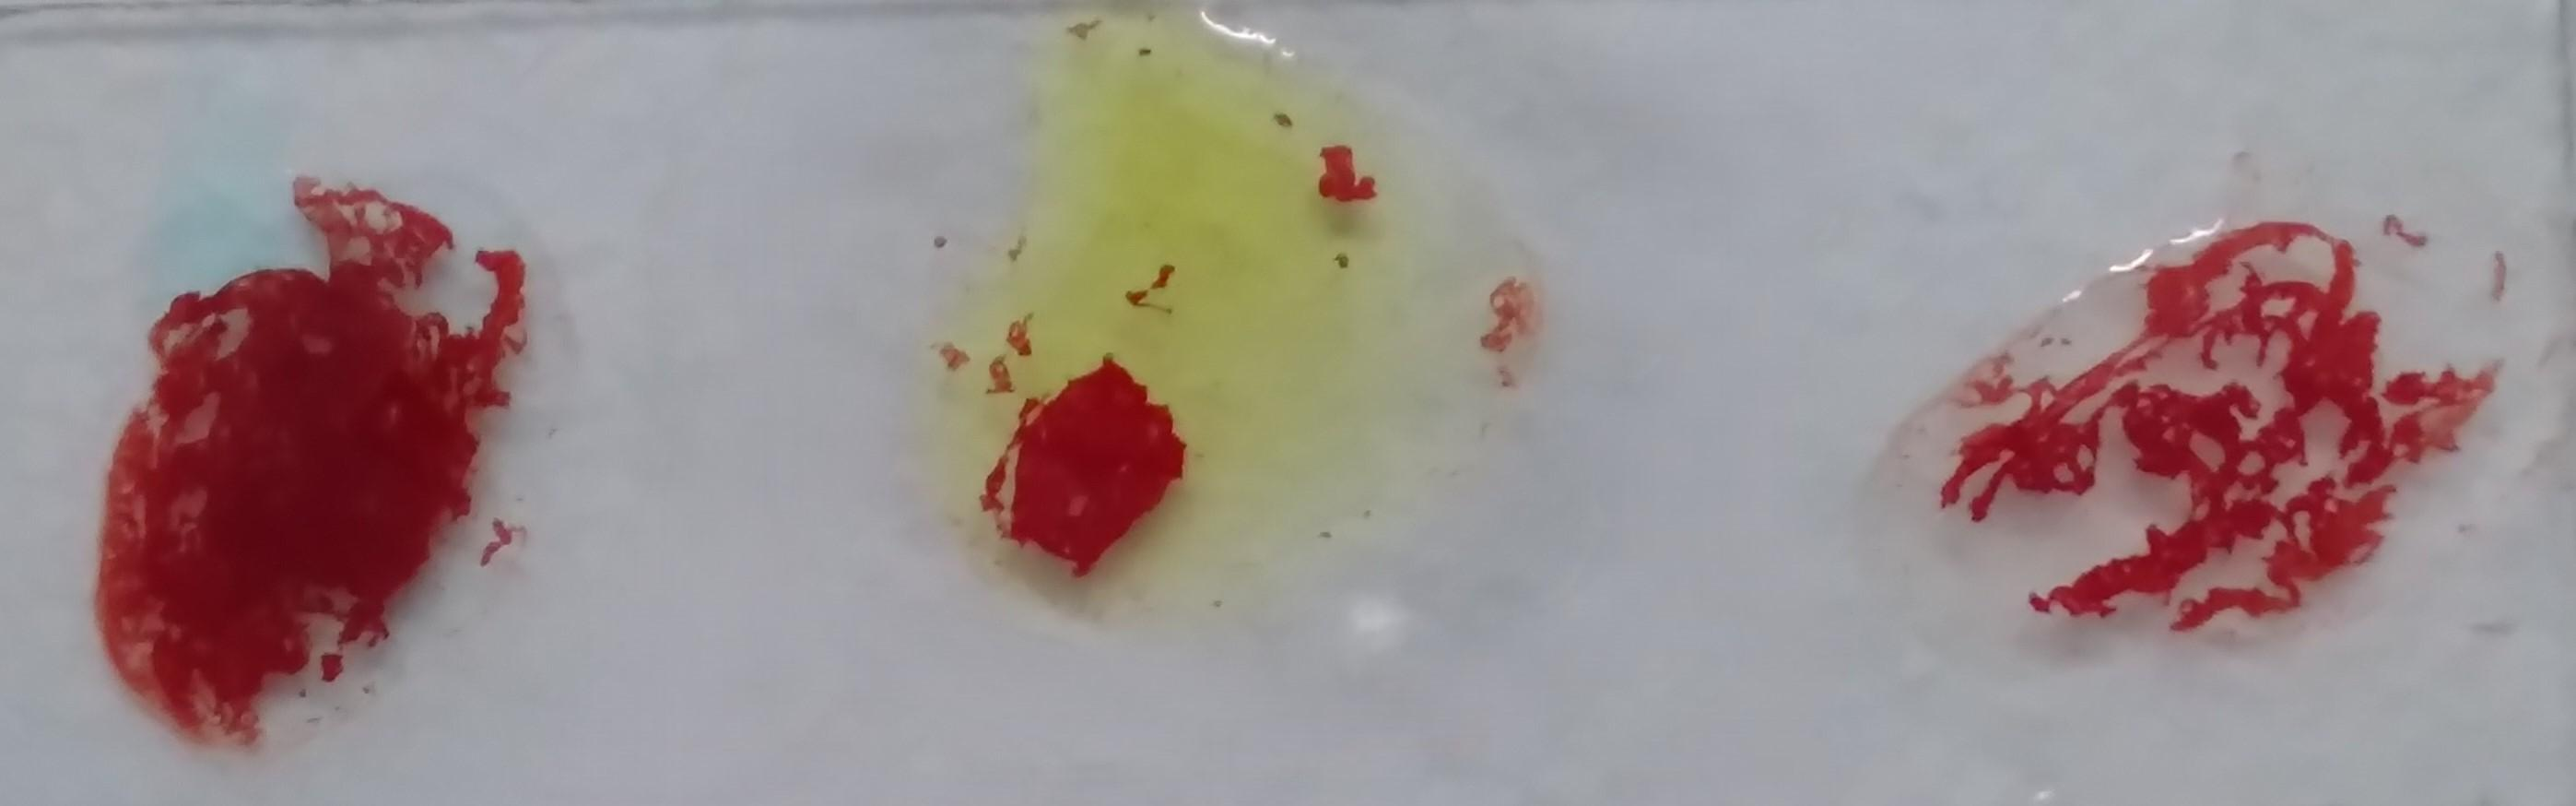A: (84, 138, 496, 737)
B: (953, 12, 1469, 648)
D: (1912, 222, 2487, 688)
